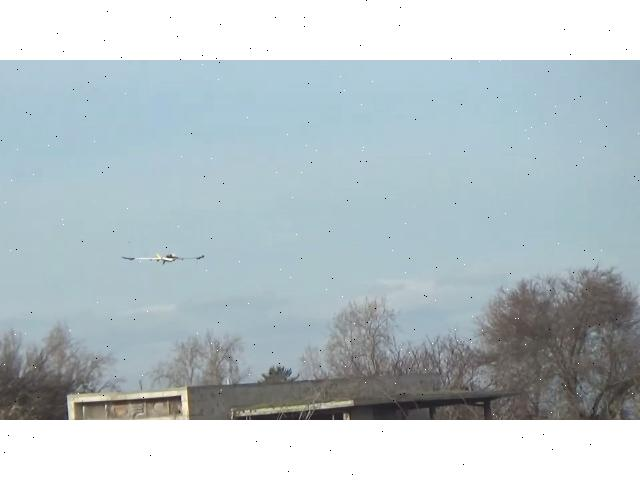Anti-Drone: (122, 253, 204, 260)
